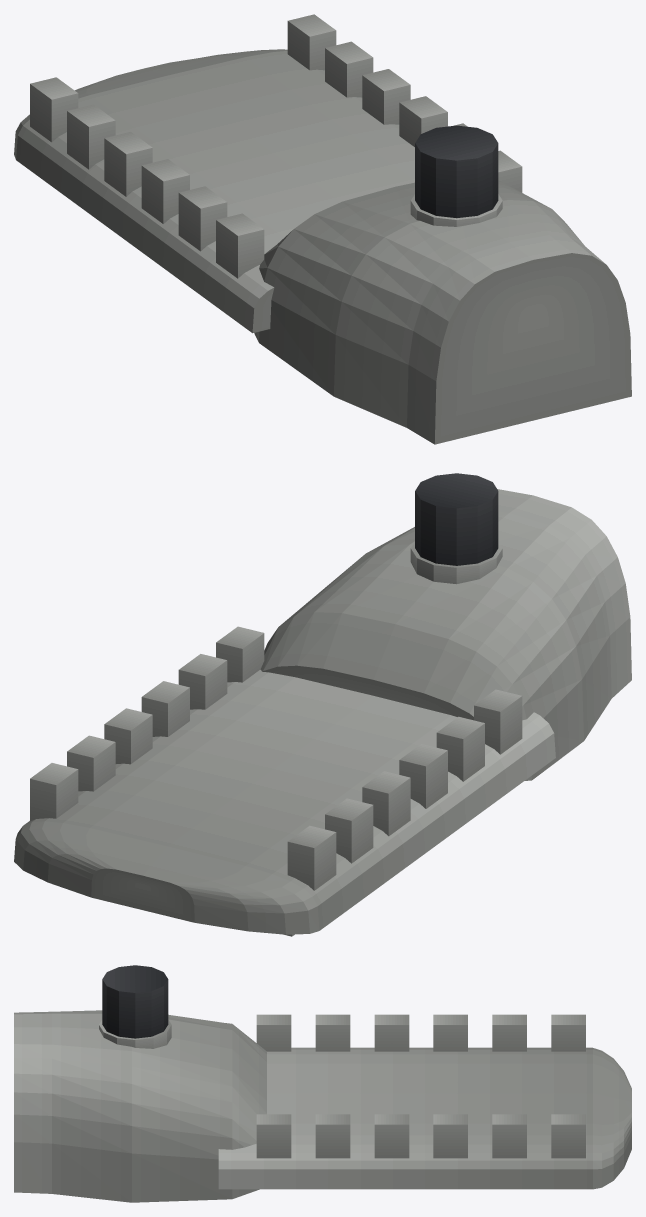
File: streetlight_hpmongoose.obj
3 views of the same model, one above another, from view 1: azimuth 30°, elevation 25°; view 2: azimuth 150°, elevation 25°; view 3: azimuth 270°, elevation 25° (orthographic). The views are drawn at different scales.
Parts seen in each view (by area): view 1: fixture; view 2: fixture; view 3: fixture.
Part boxes in pixels (<box>): fixture: <box>14,14,631,444</box>; fixture: <box>14,473,631,936</box>; fixture: <box>14,965,631,1202</box>.
Bounding box in the file's own units: 0.5 × 0.3487 × 1.11.
